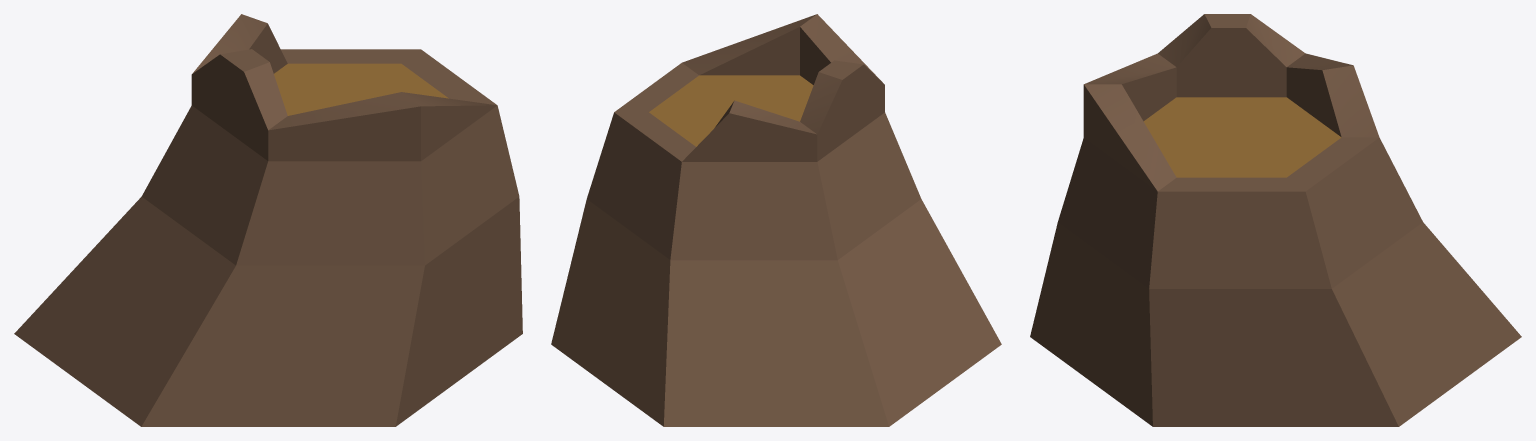
The model's file is tree_pine_log_1.fbx.
3 renders of one model, left to right at view 1: azimuth 30°, elevation 25°; view 2: azimuth 150°, elevation 25°; view 3: azimuth 270°, elevation 25°, orthographic. The views are drawn at different scales.
Visible parts, largest first — view 1: tree_pine_log_1; view 2: tree_pine_log_1; view 3: tree_pine_log_1.
Part boxes in pixels (left/top/right/bottom): tree_pine_log_1: left=14, top=14, right=522, bottom=426; tree_pine_log_1: left=551, top=14, right=1001, bottom=426; tree_pine_log_1: left=1030, top=14, right=1521, bottom=426.
Size of the model in its own units: 151 by 115 by 175.
